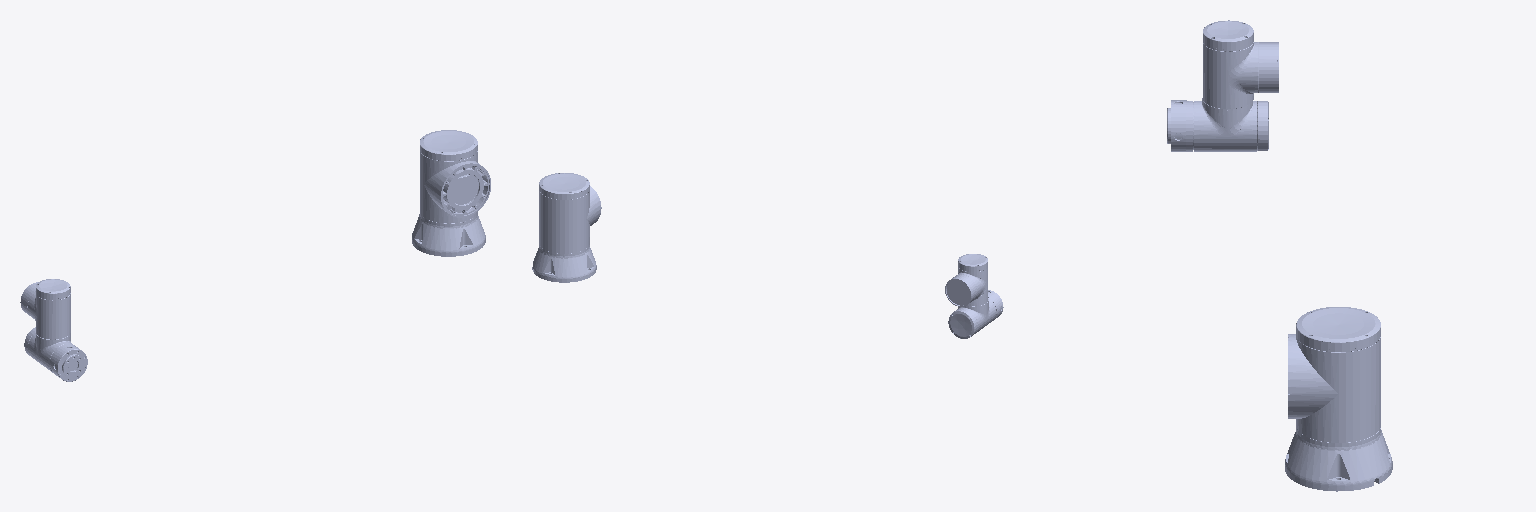
robot.urdf — FR10-V5.0.SLDASM:
<?xml version="1.0" encoding="utf-8"?>
<!-- This URDF was automatically created by SolidWorks to URDF Exporter! Originally created by [author] ([email redacted]) 
     Commit Version: 1.5.1-0-g916b5db  Build Version: 1.5.7152.31018
     For more information, please see http://wiki.ros.org/sw_urdf_exporter -->
<robot
  name="FR10-V5.0.SLDASM">

  <link name="world"/>
  <joint name="world" type="fixed">
    <parent link="world"/>
    <child link="base_link"/>
  </joint>

  <link
    name="base_link">
    <inertial>
      <origin
        xyz="-0.00037779 0.035824 0.00035123"
        rpy="0 0 0" />
      <mass
        value="0.73773" />
      <inertia
        ixx="0.0026261"
        ixy="-8.5597E-06"
        ixz="-1.1085E-05"
        iyy="0.0044464"
        iyz="8.0719E-06"
        izz="0.0026257" />
    </inertial>
    <visual>
      <origin
        xyz="0 0 0"
        rpy="0 0 0" />
      <geometry>
        <mesh
          filename="package://frcobot_description/meshes/fr10/visual/base_link.DAE" />
      </geometry>
      <material
        name="">
        <color
          rgba="0.79216 0.81961 0.93333 1" />
      </material>
    </visual>
    <collision>
      <origin
        xyz="0 0 0"
        rpy="0 0 0" />
      <geometry>
        <mesh
          filename="package://frcobot_description/meshes/fr10/collision/base_link.STL" />
      </geometry>
    </collision>
  </link>
  <link
    name="shoulder_Link">
    <inertial>
      <origin
        xyz="-1.0816E-07 -0.13473 -0.0047771"
        rpy="0 0 0" />
      <mass
        value="3.8977" />
      <inertia
        ixx="0.018741"
        ixy="5.0033E-08"
        ixz="9.2604E-08"
        iyy="0.012373"
        iyz="1.6387E-05"
        izz="0.018267" />
    </inertial>
    <visual>
      <origin
        xyz="0 0 0"
        rpy="0 3.14159 3.14159" />
      <geometry>
        <mesh
          filename="package://frcobot_description/meshes/fr10/visual/shoulder_Link.DAE" />
      </geometry>
      <material
        name="">
        <color
          rgba="0.79216 0.81961 0.93333 1" />
      </material>
    </visual>
    <collision>
      <origin xyz="0.004 -0.045 -0.005" rpy="-1.57 0 0" />
      <geometry>
        <mesh
          filename="package://frcobot_description/meshes/fr10/collision/shoulder_Link.STL" />
      </geometry>
    </collision>
  </link>
  <joint
    name="j1"
    type="revolute">
    <origin
      xyz="0 0 0.045908"
      rpy="-1.5708 3.14159 3.14159" />
    <parent
      link="base_link" />
    <child
      link="shoulder_Link" />
    <axis
      xyz="0 1 0" />
    <limit
      lower="-3.0543261"
      upper="3.0543261"
      effort="150"
      velocity="3.15" />
    <calibration
      rising="0"
      falling="0" />
    <dynamics
      damping="0"
      friction="0" />
    <safety_controller
      soft_upper_limit="3.0543261"
      soft_lower_limit="-3.0543261"
      k_position="100.0"
      k_velocity="40.0" />
  </joint>
  <link
    name="upperarm_Link">
    <inertial>
      <origin
        xyz="-1.2243E-07 0.28754 -0.13462"
        rpy="0 0 0" />
      <mass
        value="11.568" />
      <inertia
        ixx="0.18366"
        ixy="-1.1858E-08"
        ixz="8.4371E-08"
        iyy="0.03371"
        iyz="-8.597E-06"
        izz="0.17531" />
    </inertial>
    <visual>
      <origin
        xyz="0 0 0"
        rpy="0 0 0" />
      <geometry>
        <mesh
          filename="package://frcobot_description/meshes/fr10/visual/upperarm_Link.DAE" />
      </geometry>
      <material
        name="">
        <color
          rgba="0.79216 0.81961 0.93333 1" />
      </material>
    </visual>
    <collision>
      <origin xyz="0 0 0.051" rpy="0 0 0" />
      <geometry>
        <mesh
          filename="package://frcobot_description/meshes/fr10/collision/upperarm_Link.STL" />
      </geometry>
    </collision>
  </link>
  <joint
    name="j2"
    type="revolute">
    <origin
      xyz="0 0.134 -0.05"
      rpy="0 0 1.570793" />
    <parent
      link="shoulder_Link" />
    <child
      link="upperarm_Link" />
    <axis
      xyz="0 0 1" />
    <limit
      lower="-4.6251"
      upper="1.4835"
      effort="150"
      velocity="3.15" />
    <calibration
      rising="0"
      falling="0" />
    <dynamics
      damping="0"
      friction="0" />
    <safety_controller
      soft_upper_limit="1.4835298"
      soft_lower_limit="-4.6251225"
      k_position="100"
      k_velocity="40" />
  </joint>
  <link
    name="forearm_Link">
    <inertial>
      <origin
        xyz="-7.3696E-07 0.42863 0.0061272"
        rpy="0 0 0" />
      <mass
        value="1.5774" />
      <inertia
        ixx="0.012832"
        ixy="-7.5164E-09"
        ixz="2.0819E-10"
        iyy="0.0031275"
        iyz="-8.569E-05"
        izz="0.01198" />
    </inertial>
    <visual>
      <origin
        xyz="0 0 0"
        rpy="0 3.14159 0" />
      <geometry>
        <mesh
          filename="package://frcobot_description/meshes/fr10/visual/forearm_Link.DAE" />
      </geometry>
      <material
        name="">
        <color
          rgba="0.79216 0.81961 0.93333 1" />
      </material>
    </visual>
    <collision>
      <origin xyz="0 0 -0.01" rpy="0 0 -1.57" />
      <geometry>
        <mesh
          filename="package://frcobot_description/meshes/fr10/collision/forearm_Link.STL" />
      </geometry>
    </collision>
  </link>
  <joint
    name="j3"
    type="revolute">
    <origin
      xyz="0 0.7 0.101"
      rpy="0 0 0" />
    <parent
      link="upperarm_Link" />
    <child
      link="forearm_Link" />
    <axis
      xyz="0 0 1" />
    <limit
      lower="-2.8274"
      upper="2.8274"
      effort="150"
      velocity="3.15" />
    <calibration
      rising="0"
      falling="0" />
    <dynamics
      damping="0"
      friction="0" />
    <safety_controller
      soft_upper_limit="2.8274"
      soft_lower_limit="-2.8274"
      k_position="100"
      k_velocity="40" />
  </joint>
  <link
    name="wrist1_Link">
    <inertial>
      <origin
        xyz="1.119E-07 -0.0030015 0.074852"
        rpy="0 0 0" />
      <mass
        value="1.1074" />
      <inertia
        ixx="0.0019683"
        ixy="2.6898E-08"
        ixz="-6.9297E-09"
        iyy="0.0011013"
        iyz="3.8797E-06"
        izz="0.0020283" />
    </inertial>
    <visual>
      <origin
        xyz="0 0 0"
        rpy="0 0 0" />
      <!-- <origin
        xyz="0 0.268 -0.211"
        rpy="3.14159 0 0" /> -->
      <geometry>
        <mesh
          filename="package://frcobot_description/meshes/fr10/visual/wrist1_Link.DAE" />
      </geometry>
      <material
        name="">
        <color
          rgba="0.79216 0.81961 0.93333 1" />
      </material>
    </visual>
    <collision>
      <origin xyz="0 0 -0.06" rpy="0 0 -1.57" />
      <geometry>
        <mesh
          filename="package://frcobot_description/meshes/fr10/collision/wrist1_Link.STL" />
      </geometry>
    </collision>
  </link>
  <joint
    name="j4"
    type="revolute">
    <origin
      xyz="0 0.586 0.054"
      rpy="0 0 1.570793" />
    <parent
      link="forearm_Link" />
    <child
      link="wrist1_Link" />
    <axis
      xyz="0 0 1" />
    <limit
      lower="-4.6251"
      upper="1.4835"
      effort="28"
      velocity="3.2" />
    <calibration
      rising="0"
      falling="0" />
    <dynamics
      damping="0"
      friction="0" />
    <safety_controller
      soft_upper_limit="1.4835298"
      soft_lower_limit="-4.6251225"
      k_position="100"
      k_velocity="40" />
  </joint>
  <link
    name="wrist2_Link">
    <inertial>
      <origin
        xyz="-0.058347 0.0037159 -0.0044844"
        rpy="0 0 0" />
      <mass
        value="0.89805" />
      <inertia
        ixx="0.0018083"
        ixy="3.8829E-06"
        ixz="-2.3592E-06"
        iyy="0.00097125"
        iyz="3.0557E-07"
        izz="0.0018386" />
    </inertial>
    <visual>
      <origin
        xyz="0 0 0"
        rpy="0 0 0" />
      <geometry>
        <mesh
          filename="package://frcobot_description/meshes/fr10/visual/wrist2_Link.DAE" />
      </geometry>
      <material
        name="">
        <color
          rgba="0.79216 0.81961 0.93333 1" />
      </material>
    </visual>
    <collision>
      <origin xyz="-0.114 0 -0.008" rpy="0 -1.4981 3.14" />
      <geometry>
          <mesh filename="package://frcobot_description/meshes/fr10/collision/wrist2_Link_correct.stl" />
      </geometry>
    </collision>
  </link>
  <joint
    name="j5"
    type="revolute">
    <origin
      xyz="0 0.174 0.091"
      rpy="-1.5708 0 1.4981" />
    <parent
      link="wrist1_Link" />
    <child
      link="wrist2_Link" />
    <axis
      xyz="0.99706 0 0.076642" />
    <limit
      lower="-3.0543"
      upper="3.0543"
      effort="28"
      velocity="3.2" />
    <calibration
      rising="0"
      falling="0" />
    <dynamics
      damping="0"
      friction="0" />
    <safety_controller
      soft_upper_limit="3.0543261"
      soft_lower_limit="-3.0543261"
      k_position="100"
      k_velocity="40" />
  </joint>
  <link
    name="wrist3_Link">
    <inertial>
      <origin
        xyz="-1.8098E-05 0.022586 -2.1629E-05"
        rpy="0 0 0" />
      <mass
        value="0.24186" />
      <inertia
        ixx="0.00015143"
        ixy="9.9865E-08"
        ixz="7.787E-08"
        iyy="0.00024022"
        iyz="6.6716E-08"
        izz="0.00015134" />
    </inertial>
    <visual>
      <origin
        xyz="0 0 0"
        rpy="0 0 0" />
      <geometry>
        <mesh
          filename="package://frcobot_description/meshes/fr10/visual/wrist3_Link.DAE" />
      </geometry>
      <material
        name="">
        <color
          rgba="0.79216 0.81961 0.93333 1" />
      </material>
    </visual>
    <collision>
      <origin xyz="0 0 0" rpy="-1.57 0 0" />
      <geometry>
          <mesh filename="package://frcobot_description/meshes/fr10/collision/wrist3_Link_correct.stl" />
      </geometry>
    </collision>
  </link>
  <joint
    name="j6"
    type="revolute">
    <origin
      xyz="-0.060457 -0.0602 -0.0046473"
      rpy="-3.1416 2.54 0" />
    <parent
      link="wrist2_Link" />
    <child
      link="wrist3_Link" />
    <axis
      xyz="0 1 0" />
    <limit
      lower="-3.0543"
      upper="3.0543"
      effort="28"
      velocity="3.2" />
    <calibration
      rising="0"
      falling="0" />
    <dynamics
      damping="0"
      friction="0" />
    <safety_controller
      soft_upper_limit="3.0543261"
      soft_lower_limit="-3.0543261"
      k_position="100"
      k_velocity="40" />
  </joint>

  <link name="tf_end">
      <origin xyz="0 0 0" rpy="0 0 0"/>
      <inertial>
          <origin xyz="0 0 0" rpy="0 0 0" />
          <mass value="0.01" />
          <inertia ixx="0.0001" ixy="9.9865E-08" ixz="7.787E-08" iyy="0.0001" iyz="6.6716E-08" izz="0.0001" />
      </inertial>
  </link>
  <joint name="r_tf_end" type="fixed">
      <parent link="wrist3_Link"/>
      <child link="tf_end"/>
      <origin xyz="0.0 0.15 0.0" rpy="-1.57 0 1.57"/>
  </joint>
    
</robot>

--- Render facts (derived) ---
3 views of the same robot in one strip: view 1: azimuth 30°, elevation 25°; view 2: azimuth 150°, elevation 25°; view 3: azimuth 270°, elevation 25° (orthographic).
Model FR10-V5.0.SLDASM with 9 links and 8 joints (6 revolute, 2 fixed), rooted at world, posed every joint at zero.
Visible links, largest first — view 1: shoulder_Link, wrist1_Link, base_link, wrist3_Link, wrist2_Link; view 2: shoulder_Link, wrist1_Link, base_link, wrist2_Link; view 3: shoulder_Link, wrist1_Link, base_link, wrist2_Link, wrist3_Link.
Link boxes in pixels (x1,y1,x2,y2): shoulder_Link: (420,130,490,223); wrist1_Link: (20,279,70,339); base_link: (412,213,485,256); wrist3_Link: (50,344,87,381); wrist2_Link: (24,327,71,372); shoulder_Link: (539,173,601,253); wrist1_Link: (945,254,987,306); base_link: (532,245,596,282); wrist2_Link: (948,298,996,338); shoulder_Link: (1288,307,1380,442); wrist1_Link: (1203,20,1278,108); base_link: (1285,427,1392,491); wrist2_Link: (1193,98,1268,151); wrist3_Link: (1167,100,1192,151).
Bounding box of the posed robot: 1.43 × 0.397 × 0.2824 m (x, y, z).
Meshes: 7 distinct files referenced, 5 mesh visuals loaded (5 Collada DAE); not drawn: 2 (reference not matched to a file when rendering).
